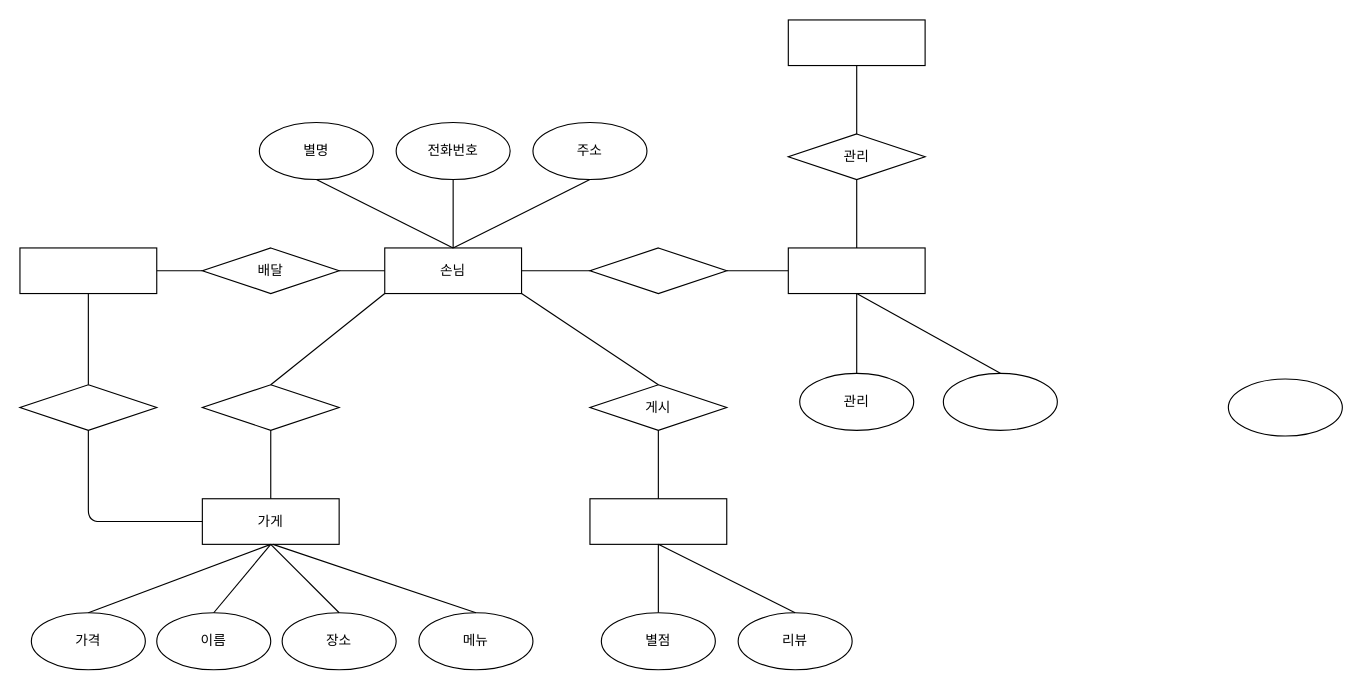
The diagram is 1362 pixels wide and 690 high, and some of its shapes have lost their labels. Here are the shapes that lost their labels. From the top down, the box of each, then its label:
(787, 19, 925, 66): 맛집랭킹
(19, 247, 157, 294): 라이더
(589, 247, 727, 294): 문의
(787, 247, 925, 294): 관리자
(19, 384, 157, 430): 배정
(201, 384, 339, 430): 주문
(589, 498, 727, 544): 맛집공유게시판
